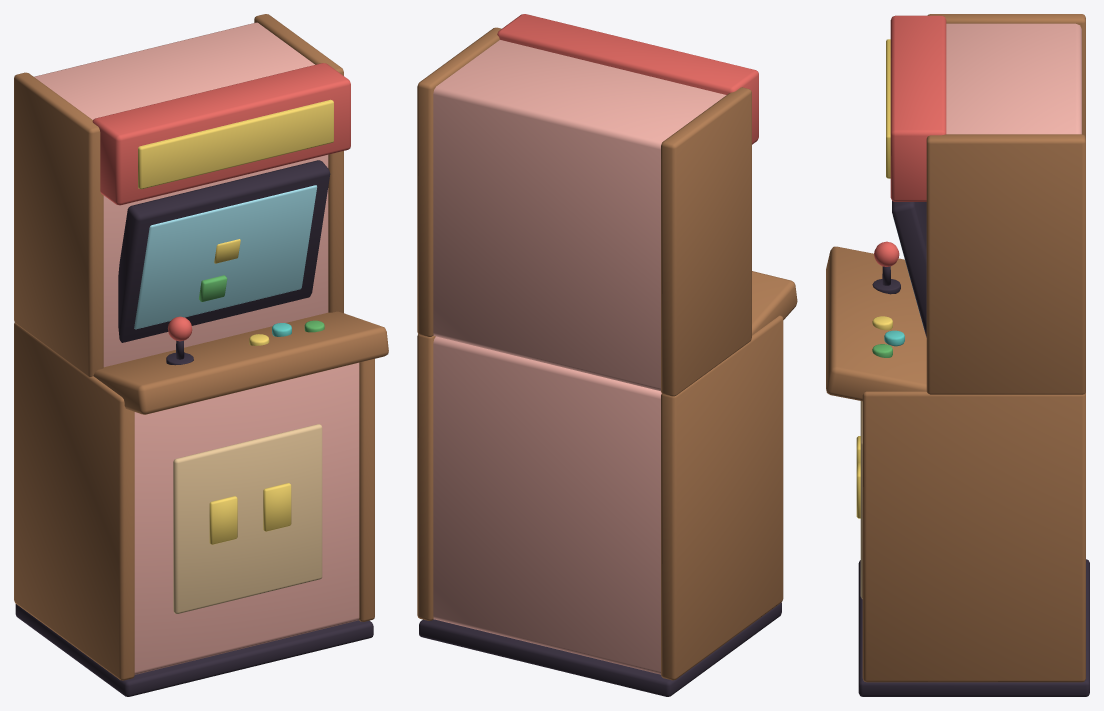
Rendered from arcade-console.glb.
3 renders of one model, left to right at view 1: azimuth 30°, elevation 25°; view 2: azimuth 150°, elevation 25°; view 3: azimuth 270°, elevation 25°, orthographic. The views are drawn at different scales.
Parts seen in each view (by area): view 1: IntArcade_WoodTrimDeck, IntArcade_PeachBody, IntArcade_CoinDoor, IntArcade_BezelPlinth, IntArcade_SkyScreen, IntArcade_CoralHeaderJoy, IntArcade_ButterMarquee, IntArcade_GreenBlocks; view 2: IntArcade_PeachBody, IntArcade_WoodTrimDeck, IntArcade_CoralHeaderJoy, IntArcade_BezelPlinth; view 3: IntArcade_WoodTrimDeck, IntArcade_PeachBody, IntArcade_CoralHeaderJoy, IntArcade_BezelPlinth, IntArcade_ButterMarquee, IntArcade_CoinDoor.
Boxes of the visible parts, x1=… form: IntArcade_WoodTrimDeck: x1=14, y1=14, x2=388, y2=680; IntArcade_PeachBody: x1=34, y1=22, x2=359, y2=674; IntArcade_CoinDoor: x1=173, y1=424, x2=322, y2=613; IntArcade_BezelPlinth: x1=15, y1=160, x2=373, y2=696; IntArcade_SkyScreen: x1=134, y1=185, x2=317, y2=329; IntArcade_CoralHeaderJoy: x1=92, y1=63, x2=350, y2=341; IntArcade_ButterMarquee: x1=138, y1=99, x2=333, y2=544; IntArcade_GreenBlocks: x1=199, y1=275, x2=324, y2=332; IntArcade_PeachBody: x1=433, y1=40, x2=726, y2=674; IntArcade_WoodTrimDeck: x1=417, y1=27, x2=797, y2=680; IntArcade_CoralHeaderJoy: x1=497, y1=14, x2=758, y2=144; IntArcade_BezelPlinth: x1=419, y1=602, x2=781, y2=696; IntArcade_WoodTrimDeck: x1=826, y1=14, x2=1085, y2=682; IntArcade_PeachBody: x1=946, y1=23, x2=1081, y2=134; IntArcade_CoralHeaderJoy: x1=874, y1=15, x2=946, y2=266; IntArcade_BezelPlinth: x1=858, y1=201, x2=1089, y2=696; IntArcade_ButterMarquee: x1=856, y1=39, x2=892, y2=518; IntArcade_CoinDoor: x1=860, y1=401, x2=862, y2=598.
Size of the model in its own units: 0.76 by 1.56 by 0.6621.
